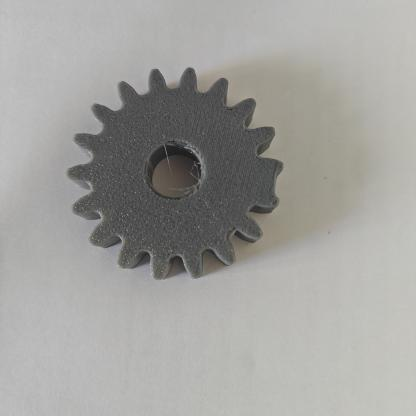defect: (222, 142, 287, 227)
gear: (52, 58, 294, 300)
